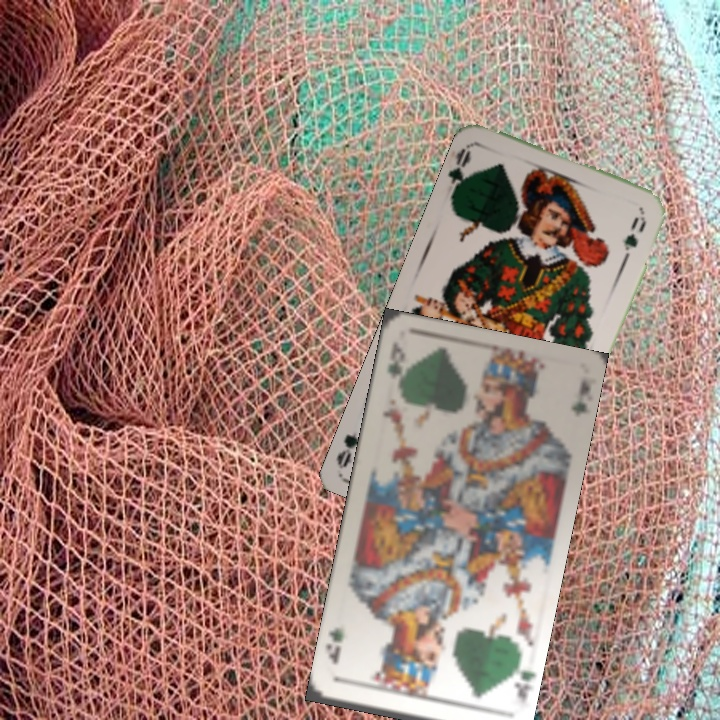GK: (506, 657, 535, 706), (383, 337, 407, 382)
GO: (445, 142, 477, 199)
